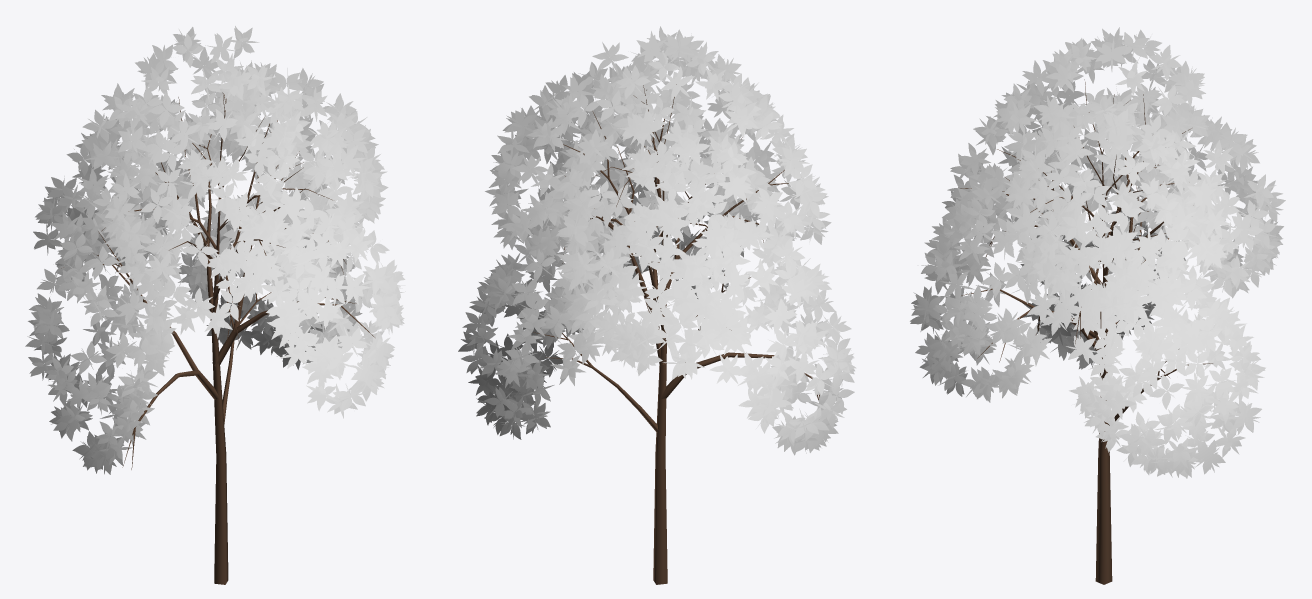
File: tree.fbx
3 views of the same model, side by side, from view 1: azimuth 30°, elevation 25°; view 2: azimuth 150°, elevation 25°; view 3: azimuth 270°, elevation 25° (orthographic).
Visible parts, largest first — view 1: leafs, tree; view 2: leafs, tree; view 3: leafs, tree.
Boxes of the visible parts, <box> form: leafs: <box>25,26,405,474</box>; tree: <box>61,92,374,584</box>; leafs: <box>458,26,856,455</box>; tree: <box>533,84,819,584</box>; leafs: <box>910,27,1285,478</box>; tree: <box>958,79,1212,584</box>.
Bounding box in the file's own units: 505 × 746 × 488.
